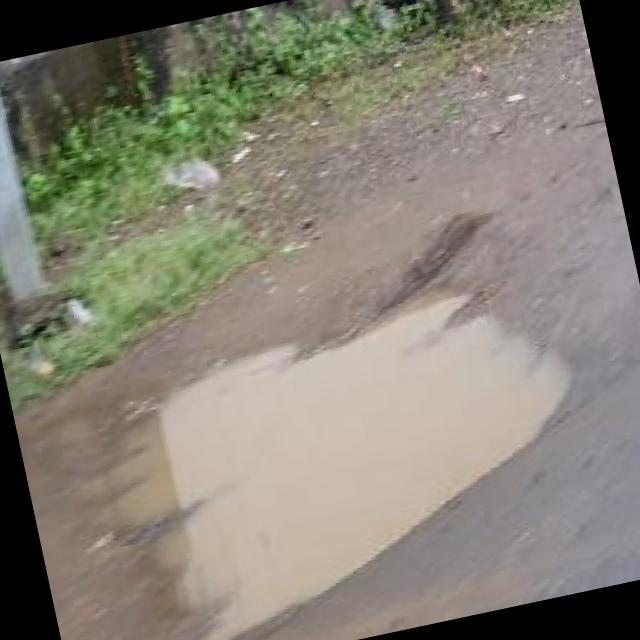stagnation: (63, 259, 640, 617)
